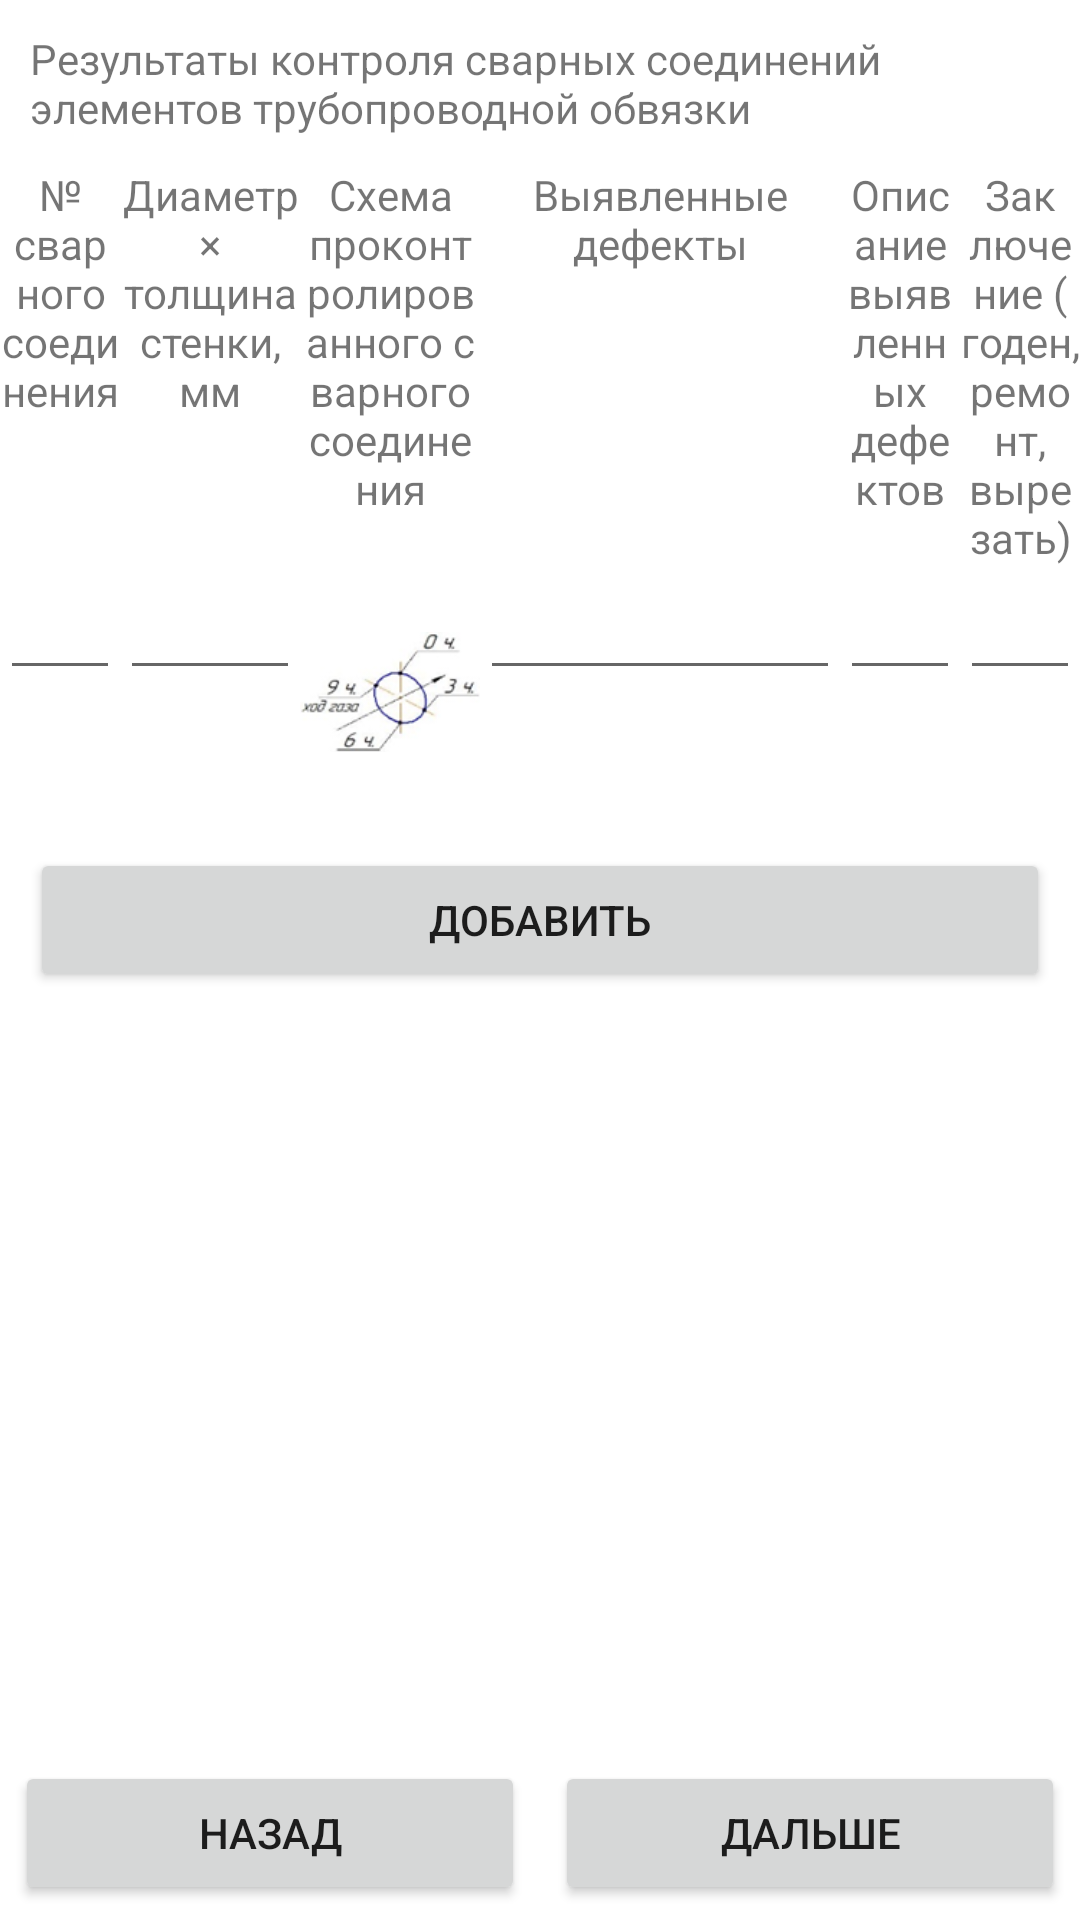

Icons on this 1080px x 1920px Android screen, each with the point to tap as point (x, y):
scheme: point (390, 692)
